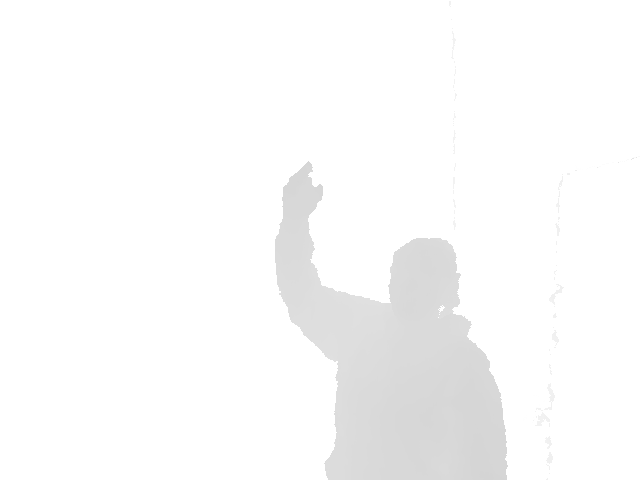hand: (279, 160, 325, 219)
head: (386, 236, 462, 313)
person: (273, 160, 509, 480)
